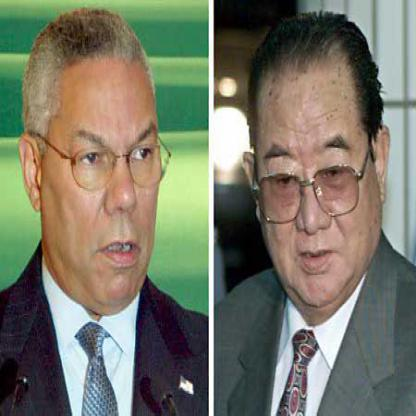face: (40, 13, 168, 315), (255, 32, 378, 311)
